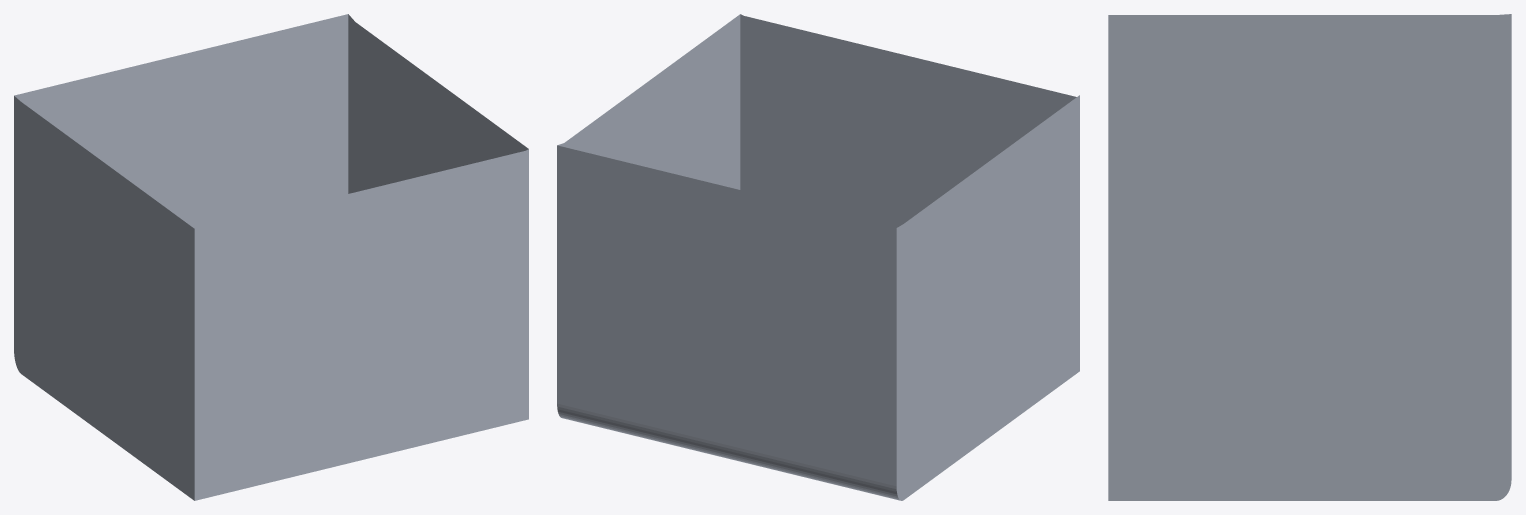
3 renders of one model, left to right at view 1: azimuth 30°, elevation 25°; view 2: azimuth 150°, elevation 25°; view 3: azimuth 270°, elevation 25°, orthographic. The views are drawn at different scales.
Parts seen in each view (by area): view 1: Plane.002; view 2: Plane.002; view 3: Plane.002.
Boxes of the visible parts, <box> form: Plane.002: <box>14,14,528,500</box>; Plane.002: <box>557,14,1079,500</box>; Plane.002: <box>1108,14,1511,500</box>.
Bounding box in the file's own units: 10.25 × 8.01 × 9.59.
